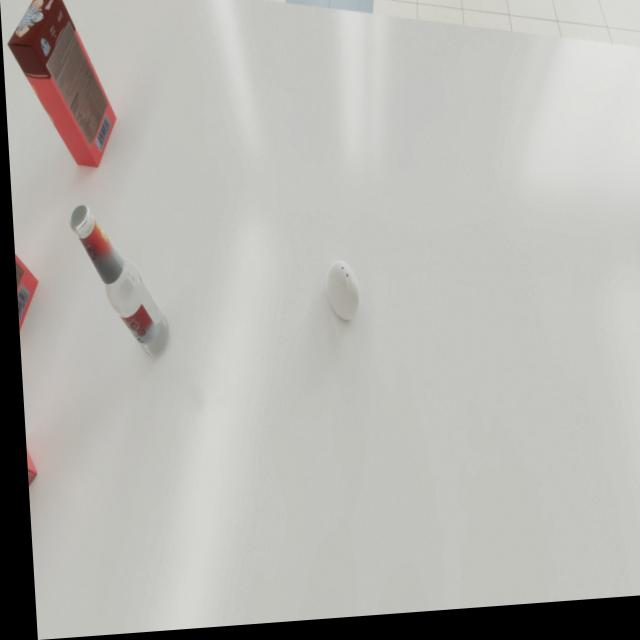Bottle: (66, 201, 167, 363)
HelloPanda: (5, 0, 117, 173)
Salt: (321, 264, 357, 326)
